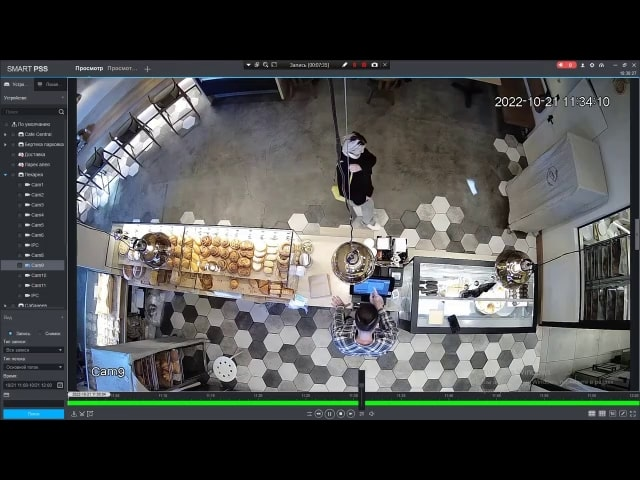pack: (307, 275, 333, 300)
person: (330, 128, 382, 225)
